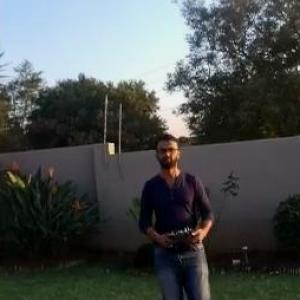follow: (135, 127, 228, 299)
